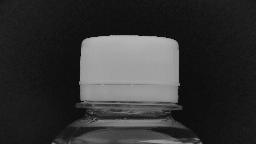Good Cap: (72, 31, 186, 113)
